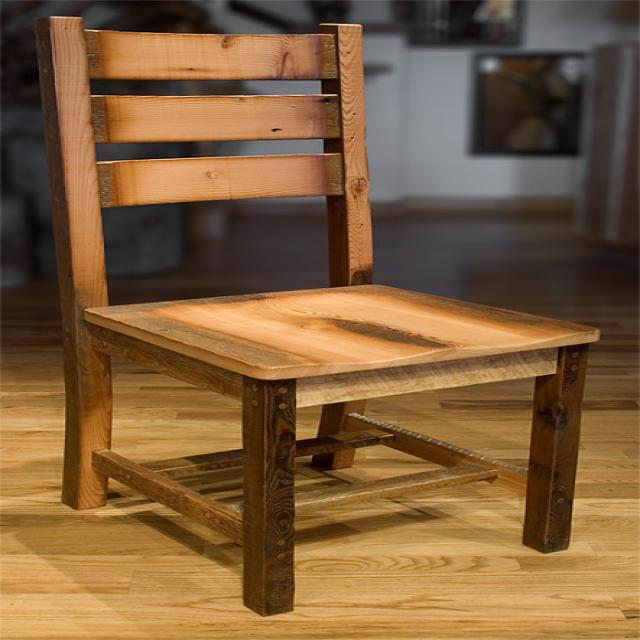chair: (33, 15, 600, 616)
